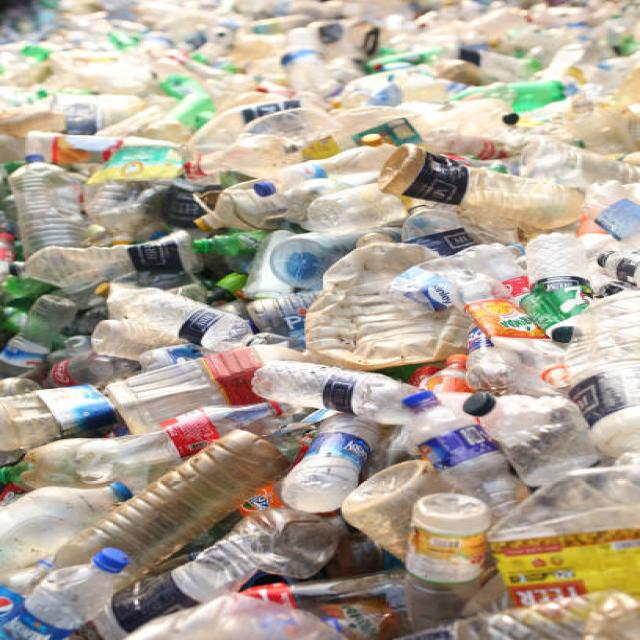plastic: (32, 33, 606, 593)
